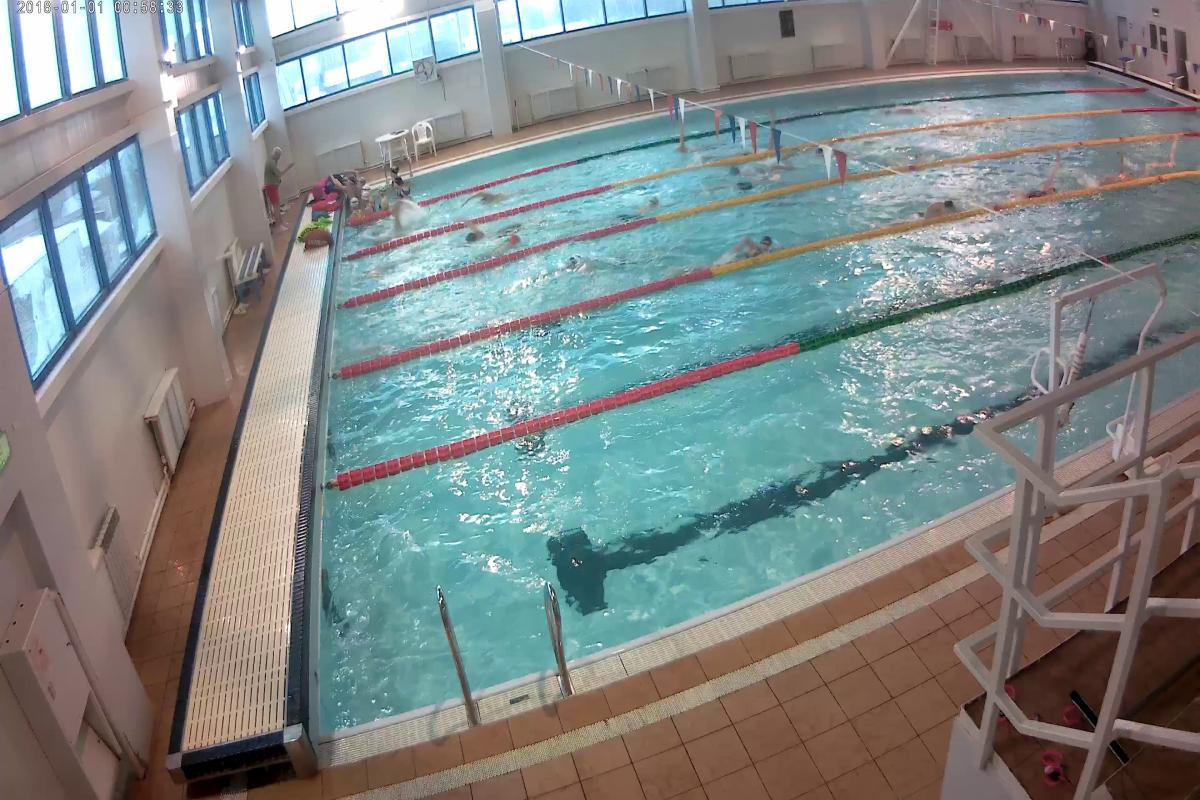swimmer: (715, 229, 784, 263), (554, 247, 620, 276), (896, 194, 963, 222), (612, 195, 674, 221)
